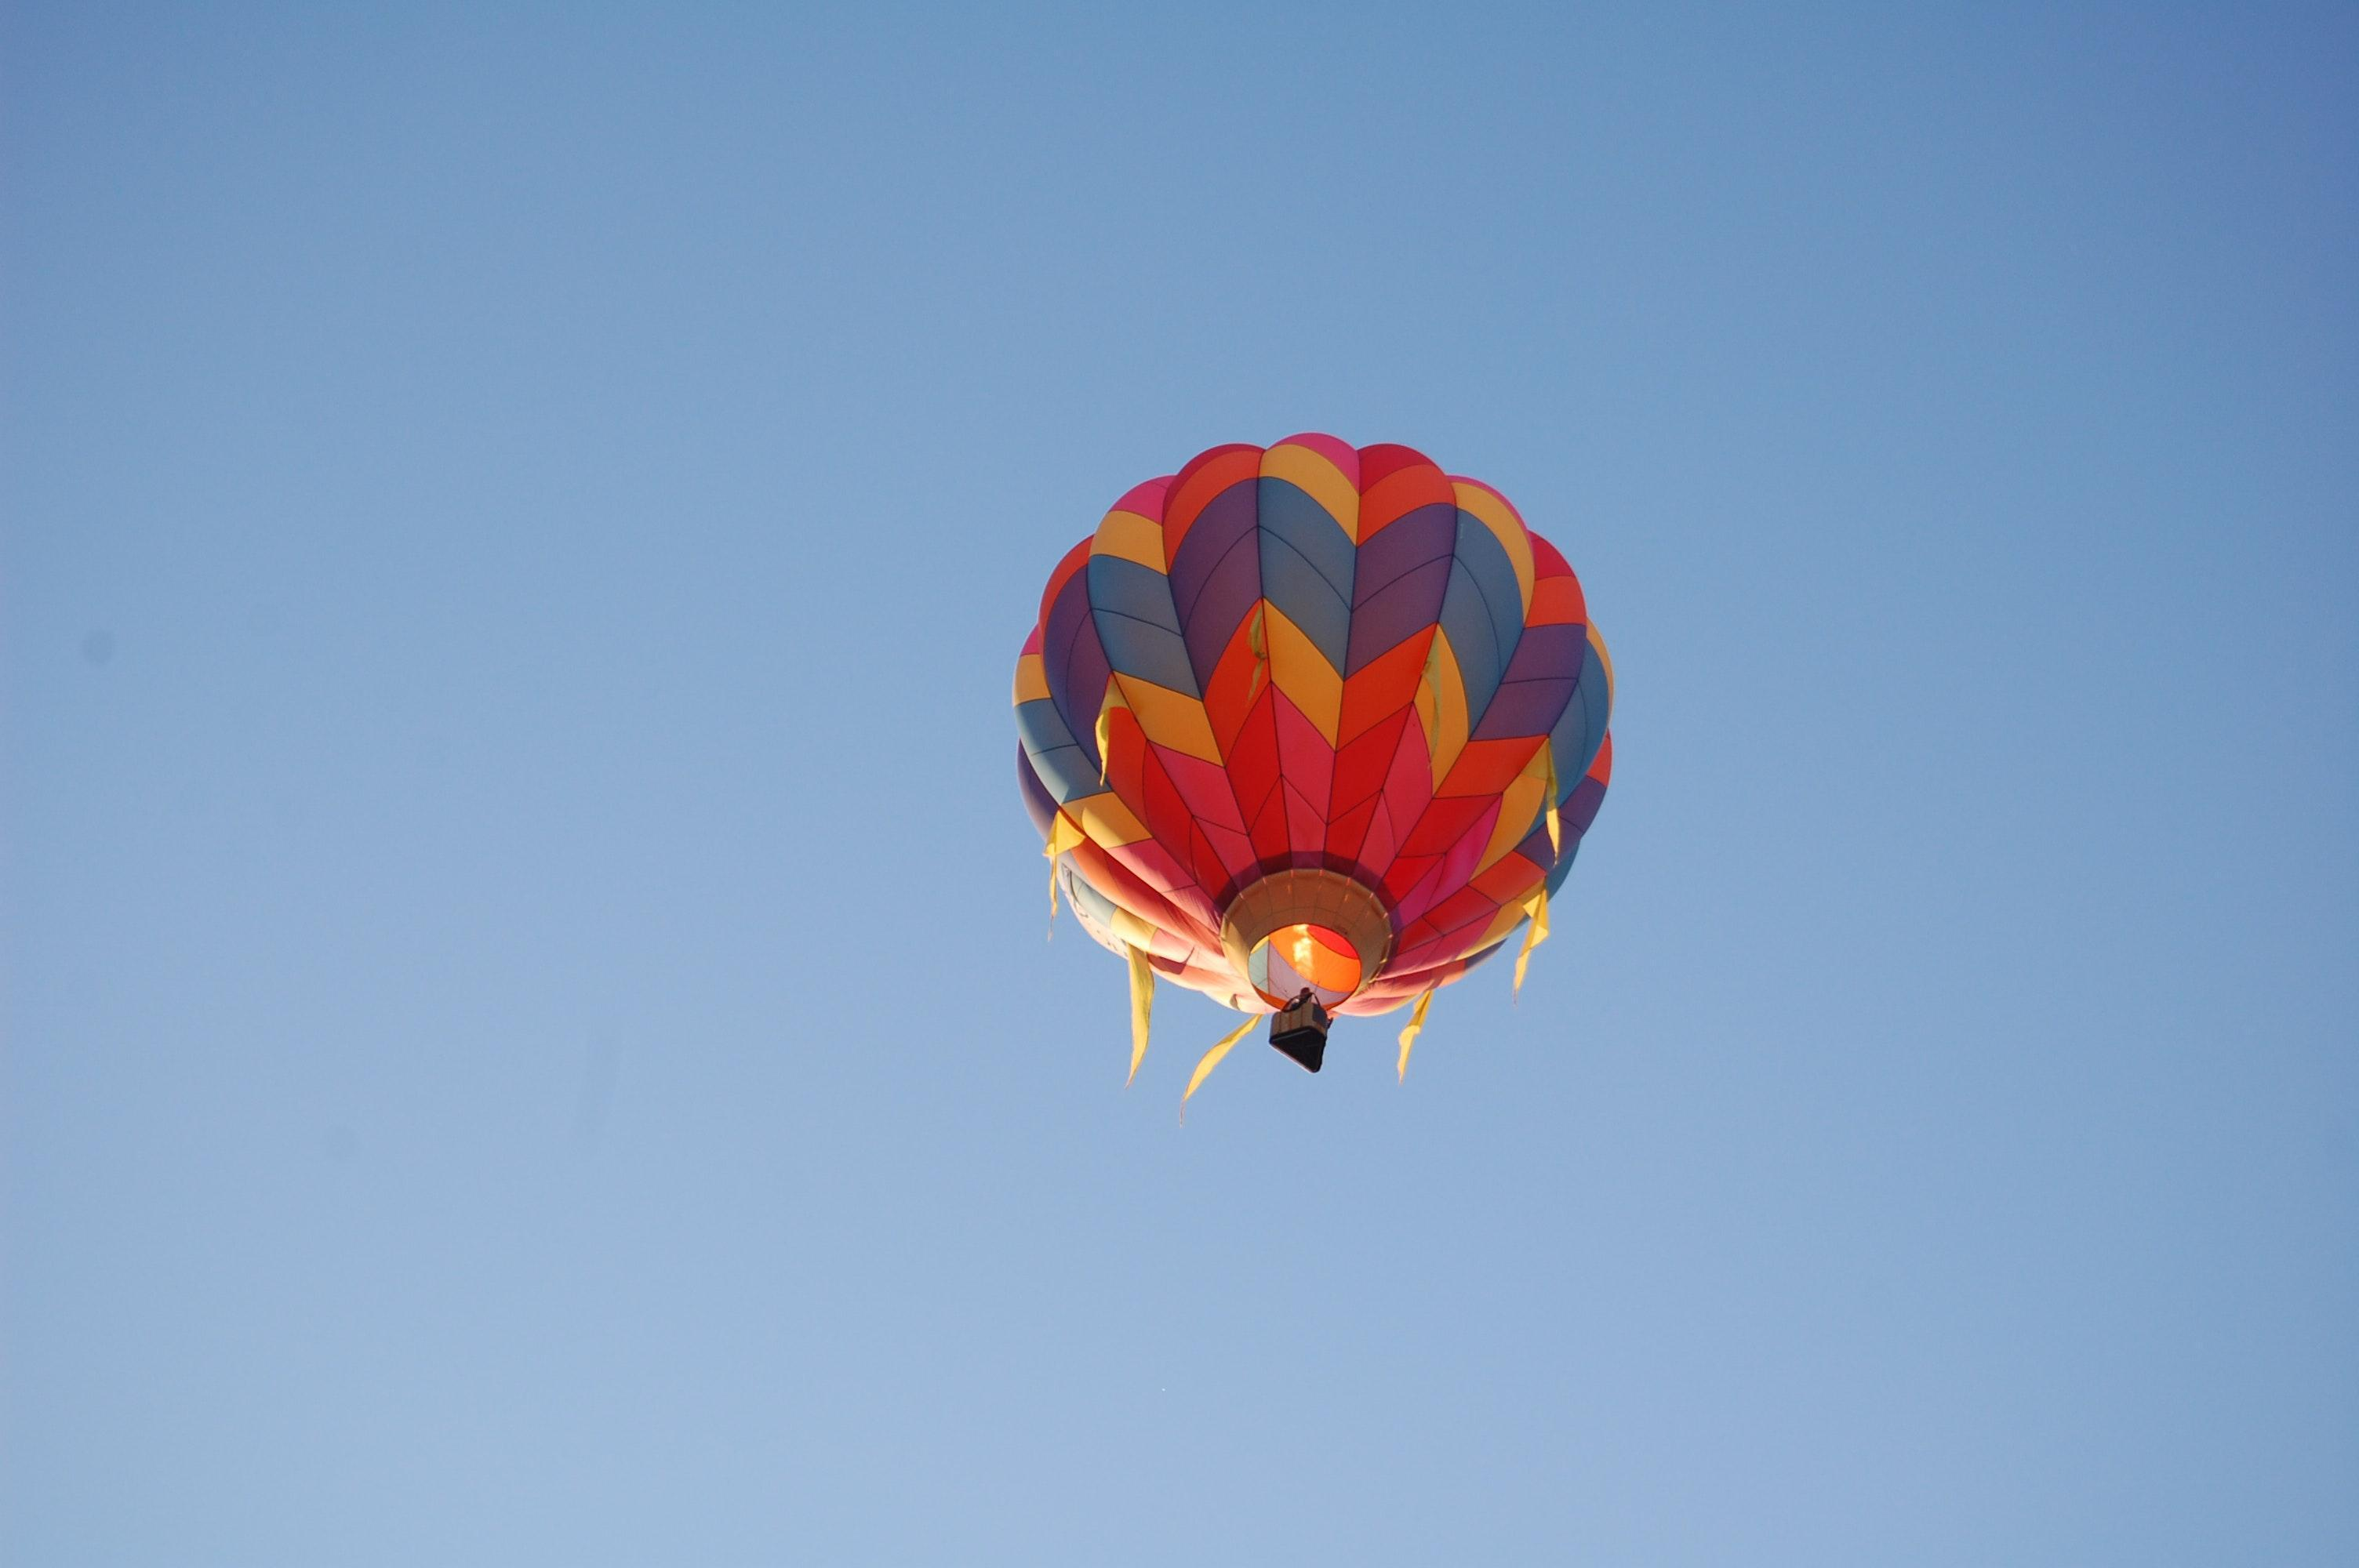hot air ballon: (1003, 424, 1617, 1081)
